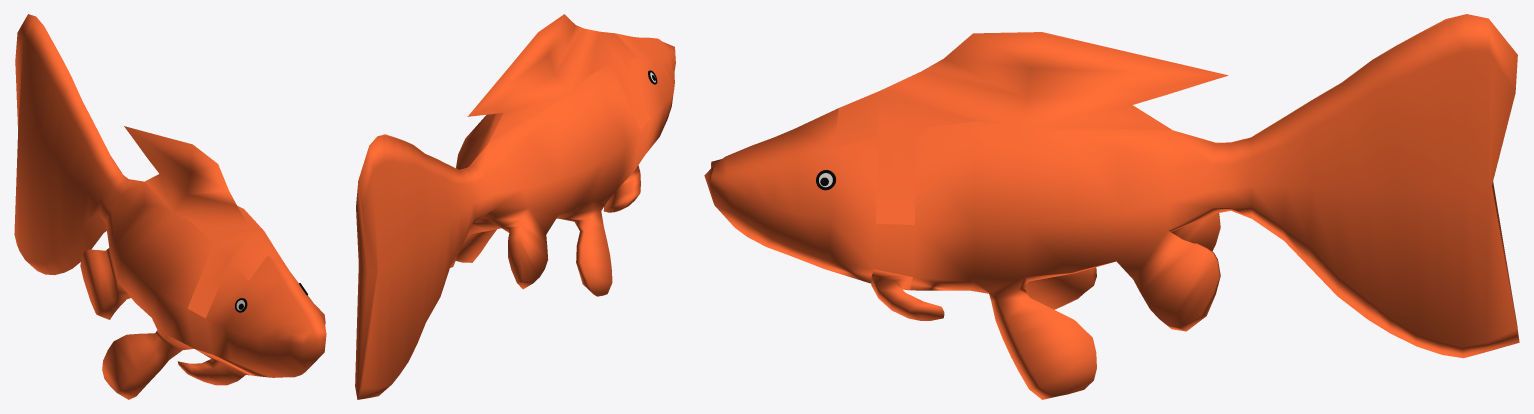
File: fish3_mit_auge_nichtdoppelt.glb
The picture shows the model from 3 angles, left to right: view 1: azimuth 30°, elevation 25°; view 2: azimuth 150°, elevation 25°; view 3: azimuth 270°, elevation 25°; orthographic projection. The views are drawn at different scales.
Visible parts, largest first — view 1: Cube.006; view 2: Cube.006; view 3: Cube.006.
Boxes of the visible parts, x1,y1,x2,y2 form: Cube.006: (14, 14, 326, 399); Cube.006: (355, 14, 675, 399); Cube.006: (704, 14, 1519, 399).
Bounding box in the file's own units: 1.32 × 2.2 × 4.73.
